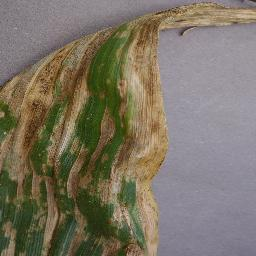Gray_Leaf_Spot: (0, 48, 171, 256), (143, 0, 256, 48), (55, 14, 142, 49)
